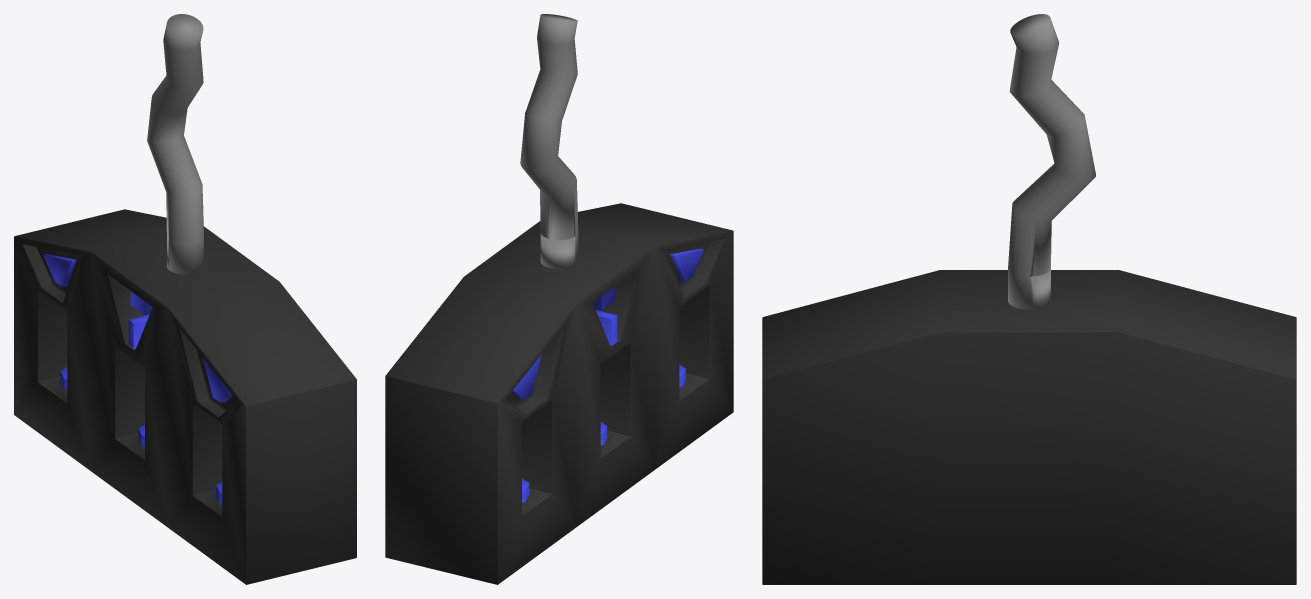
Rendered from BatteryHolder.fbx.
3 renders of one model, left to right at view 1: azimuth 30°, elevation 25°; view 2: azimuth 150°, elevation 25°; view 3: azimuth 270°, elevation 25°, orthographic. The views are drawn at different scales.
Visible parts, largest first — view 1: Cube.001, Cylinder; view 2: Cube.001, Cylinder; view 3: Cube.001, Cylinder.
Boxes of the visible parts, left/top/right/bottom form: Cube.001: left=14, top=209, right=356, bottom=584; Cylinder: left=147, top=14, right=203, bottom=274; Cube.001: left=385, top=203, right=733, bottom=584; Cylinder: left=520, top=14, right=578, bottom=269; Cube.001: left=762, top=270, right=1296, bottom=584; Cylinder: left=1008, top=14, right=1095, bottom=309.
Size of the model in its own units: 200 by 801 by 724.
